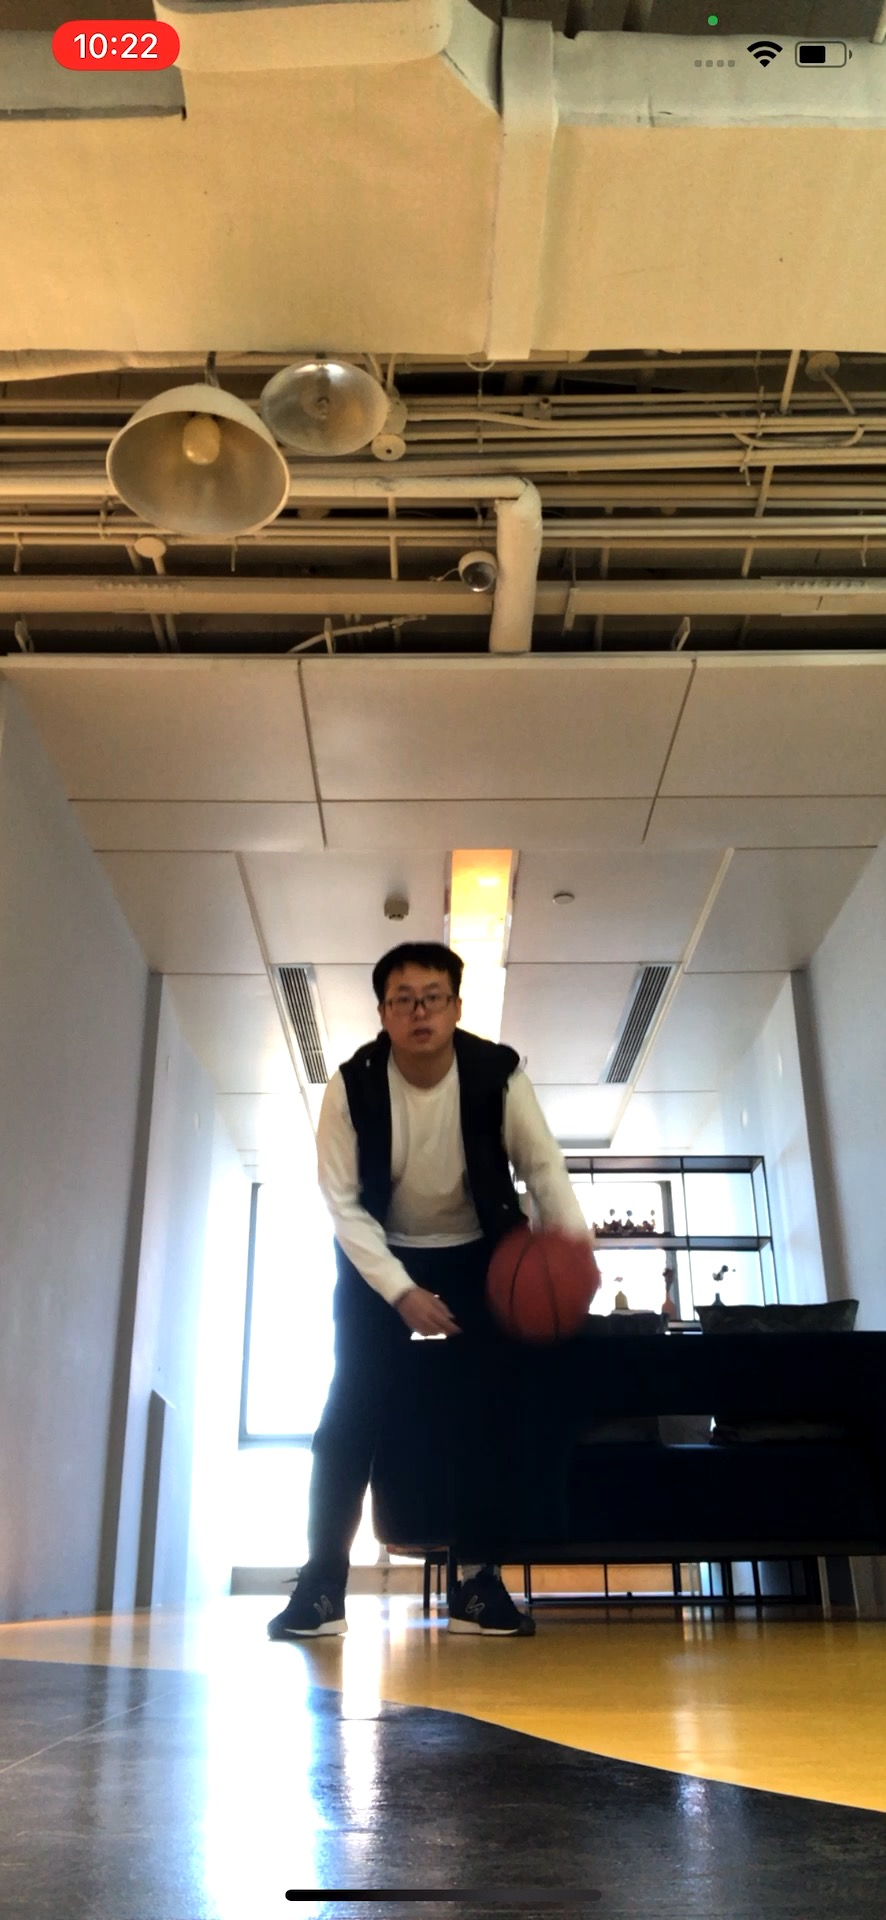ball: (488, 1227, 600, 1343)
